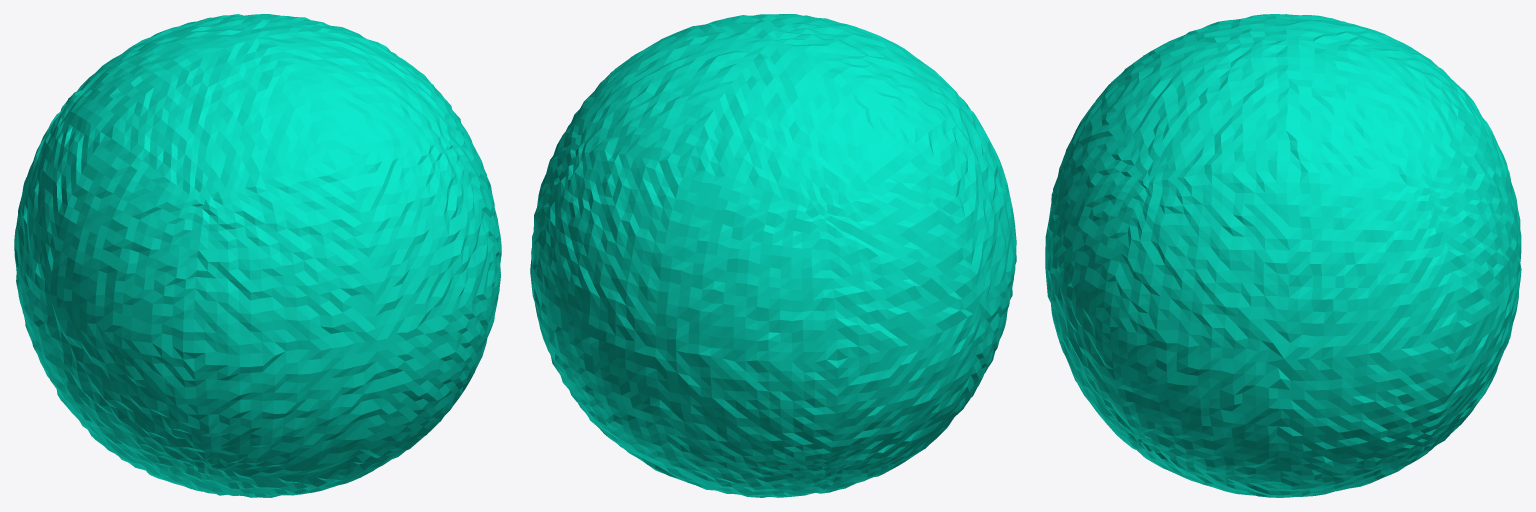
Rendered from Sea30.fbx.
3 renders of one model, left to right at view 1: azimuth 30°, elevation 25°; view 2: azimuth 150°, elevation 25°; view 3: azimuth 270°, elevation 25°, orthographic.
Visible parts, largest first — view 1: pCube1; view 2: pCube1; view 3: pCube1.
Boxes of the visible parts, left/top/right/bottom form: pCube1: left=14, top=14, right=501, bottom=497; pCube1: left=530, top=14, right=1016, bottom=497; pCube1: left=1045, top=14, right=1521, bottom=497.
Bounding box in the file's own units: 40.01 × 39.97 × 39.92.
